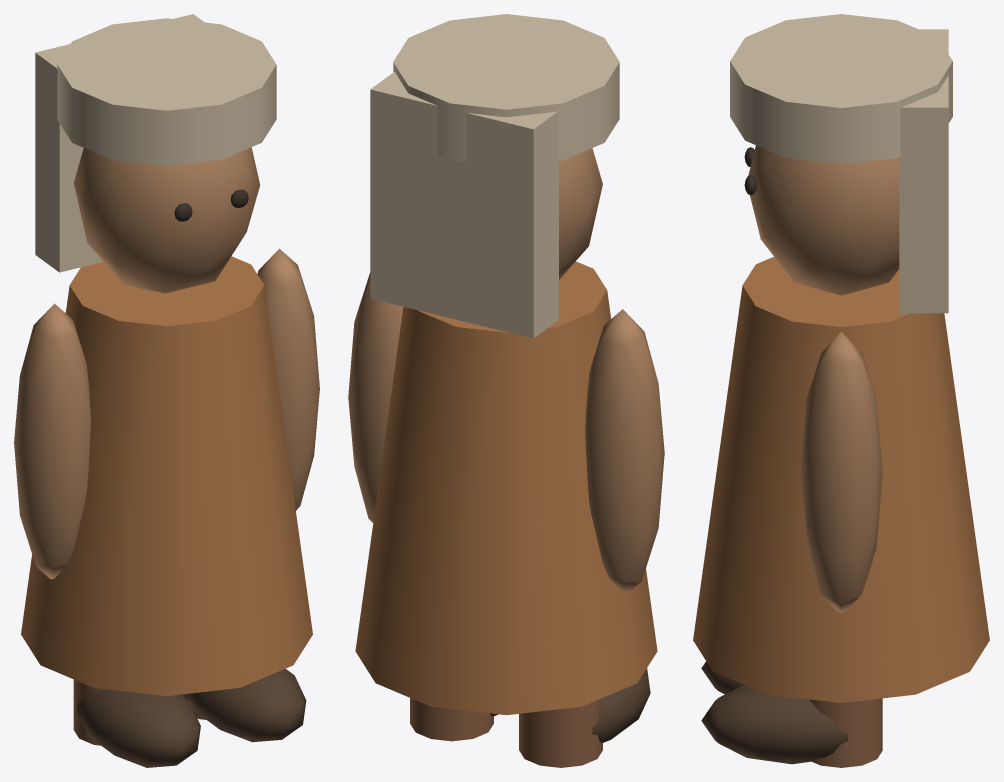
File: resident-niya.glb
The picture shows the model from 3 angles, left to right: view 1: azimuth 30°, elevation 25°; view 2: azimuth 150°, elevation 25°; view 3: azimuth 270°, elevation 25°; orthographic projection. The views are drawn at different scales.
Visible parts, largest first — view 1: resident-niya; view 2: resident-niya; view 3: resident-niya.
Part boxes in pixels (x1=…): resident-niya: x1=14, y1=14, x2=319, y2=767; resident-niya: x1=348, y1=14, x2=664, y2=767; resident-niya: x1=693, y1=14, x2=989, y2=767.
Bounding box in the file's own units: 0.6048 × 1.29 × 0.5184.
